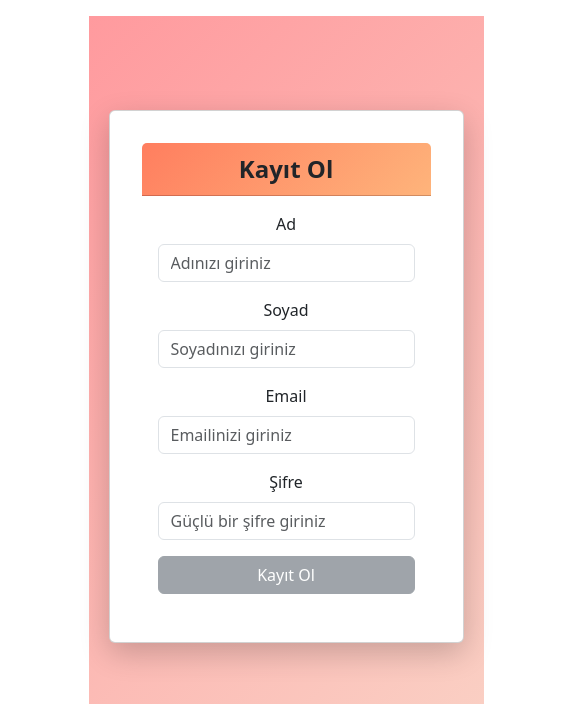
Scenario: Register Form Testleri › Email ve password yanlış girildiğinde 2 hata mesajı görünüyor ve buton disabled
This screenshot has width=573, height=704.
Note: Form alanlarını doldur (email ve password yanlış)
Type "Ahmet" into the field labelled "Ad" at (287, 263), box [158, 244, 415, 282]
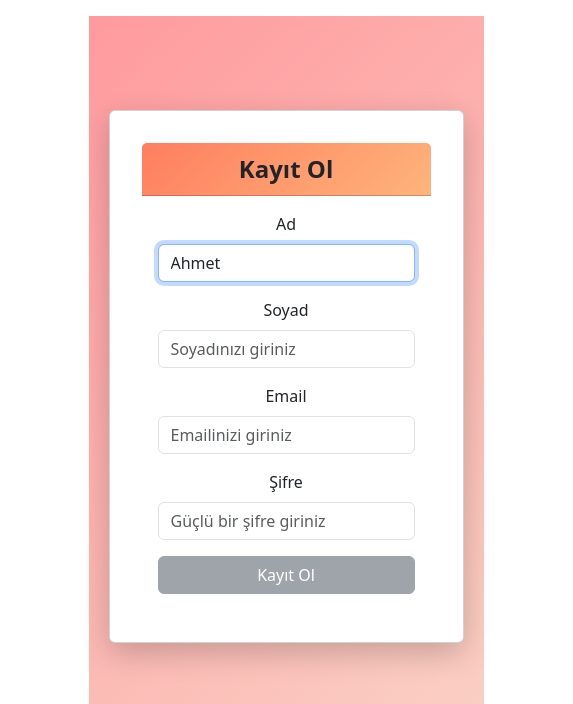
Type "Yılmaz" into the field with id "soyad" at (287, 349), box [158, 330, 415, 368]
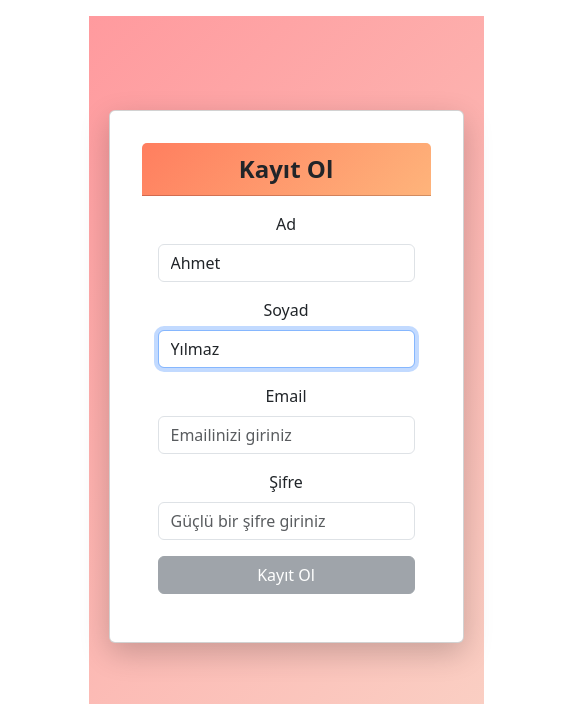
Type "yanlis-email" into the field with id "email" at (287, 435), box [158, 416, 415, 454]
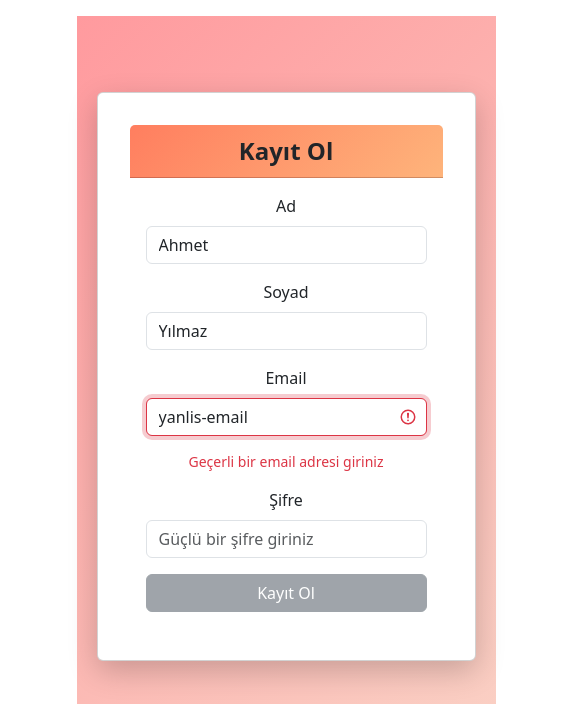
Type "yanlis" into the password field labelled "Şifre" at (287, 539), box [146, 520, 427, 558]
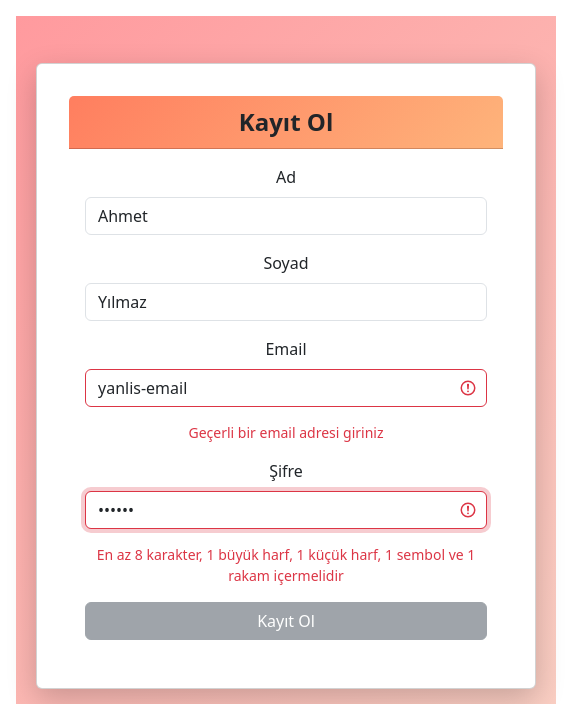
Expected: the button with class "submit-button" is disabled, [85, 602, 487, 640]
Now the text "Geçerli bir email adresi giriniz" is shown, box [188, 423, 384, 442]
Now the text "En az 8 karakter, 1 büyük harf, 1 küçük harf, 1 sembol ve 1 rakam içermelidir" is shown, box [85, 544, 487, 586]
